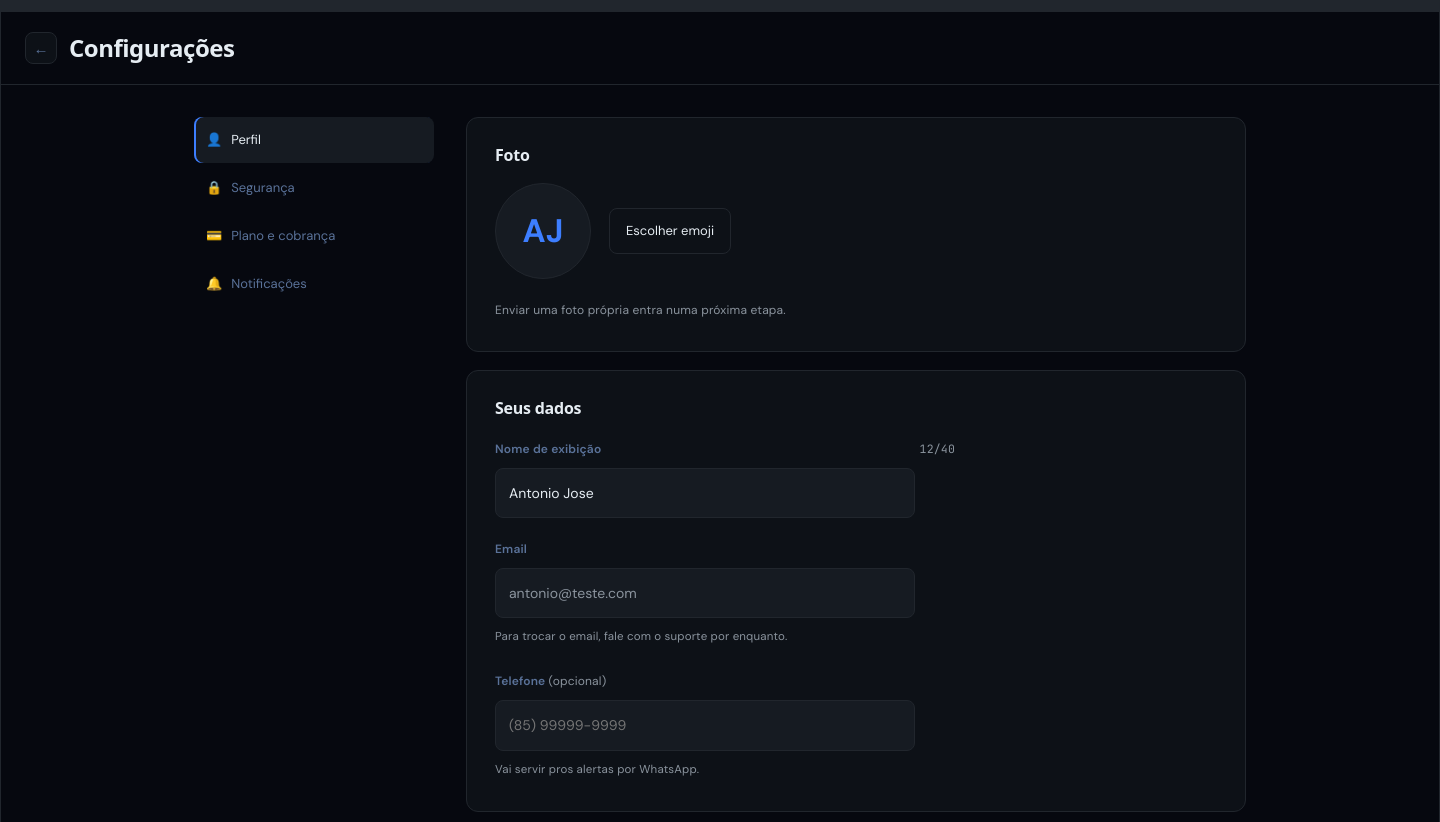
Test: Configurações — logado › telefone incompleto avisa e trava o salvar
Type "8599" into the field with placeholder "(85) 99999-9999". click: (705,725)
box: left=495, top=700, right=915, bottom=750
(page scrolled)
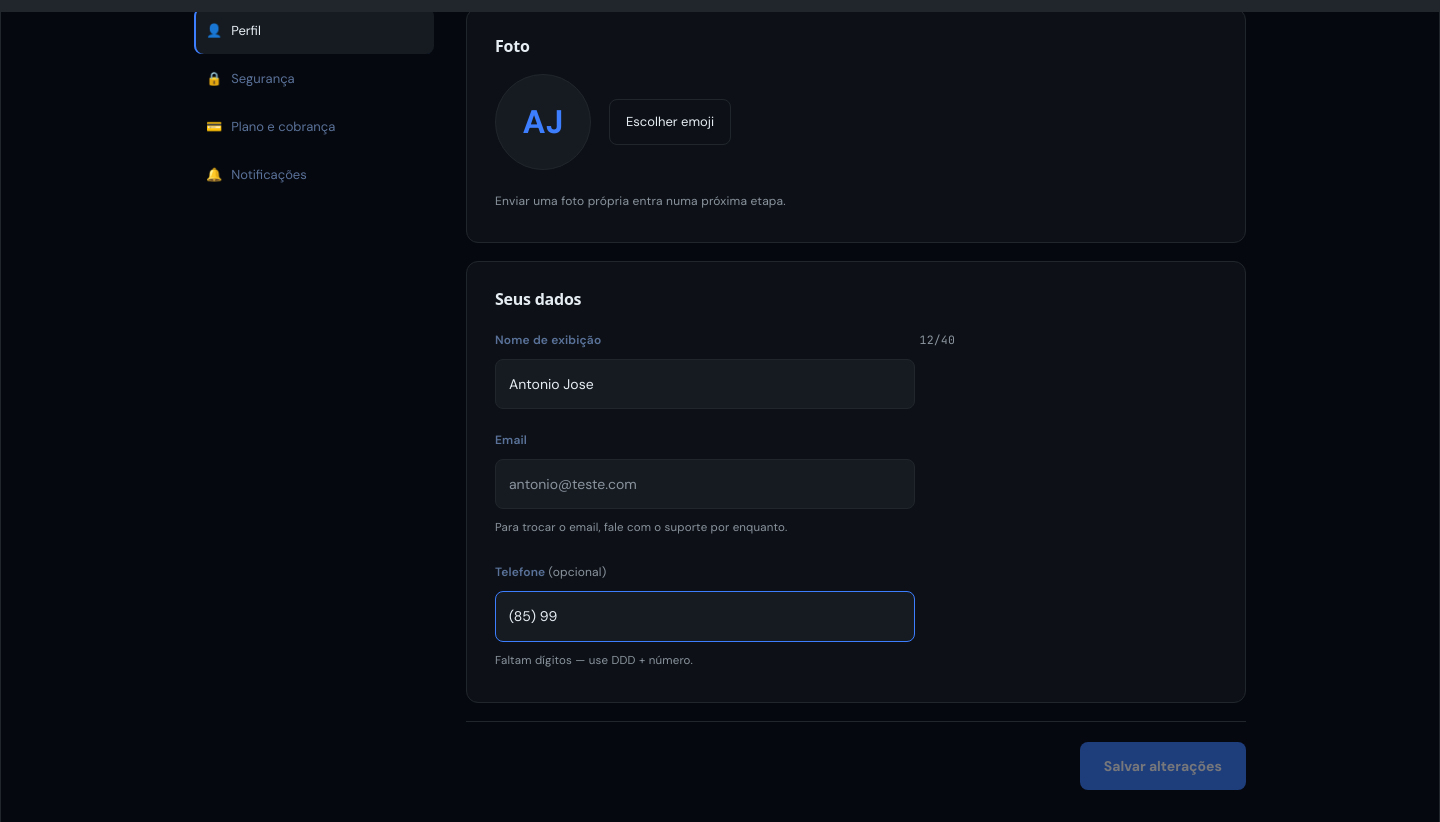
Expected: the text "Faltam dígitos — use DDD + número." is shown, left=495, top=652, right=693, bottom=668
Expected: the button "Salvar alterações" is disabled, left=1080, top=742, right=1246, bottom=790
